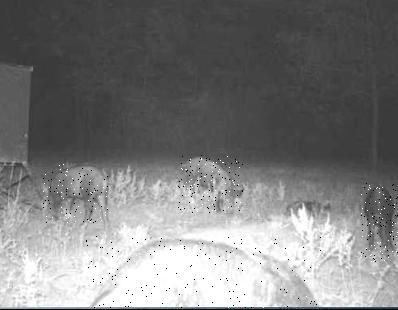Hog: (84, 236, 321, 308), (43, 164, 108, 223), (178, 155, 243, 213), (361, 183, 398, 262)
